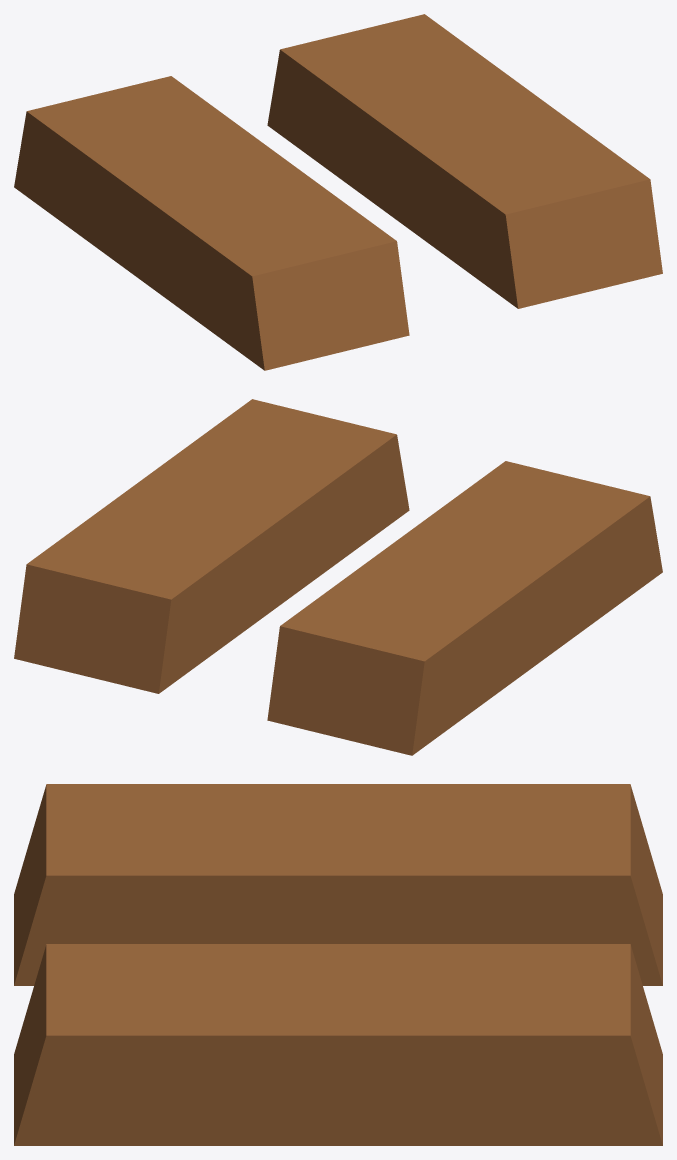
File: drop_leather_chaps.glb
The picture shows the model from 3 angles, top to bottom: view 1: azimuth 30°, elevation 25°; view 2: azimuth 150°, elevation 25°; view 3: azimuth 270°, elevation 25°; orthographic projection. The views are drawn at different scales.
Visible parts, largest first — view 1: drop_leather_chaps; view 2: drop_leather_chaps; view 3: drop_leather_chaps.
Boxes of the visible parts, x1,y1,x2,y2 form: drop_leather_chaps: [14, 14, 662, 370]; drop_leather_chaps: [14, 399, 662, 755]; drop_leather_chaps: [14, 784, 662, 1145].
Bounding box in the file's own units: 0.22 × 0.045 × 0.24.
